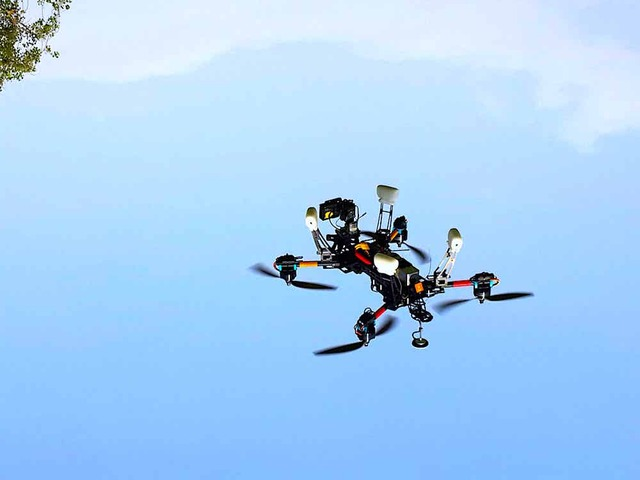drone: (250, 185, 536, 356)
